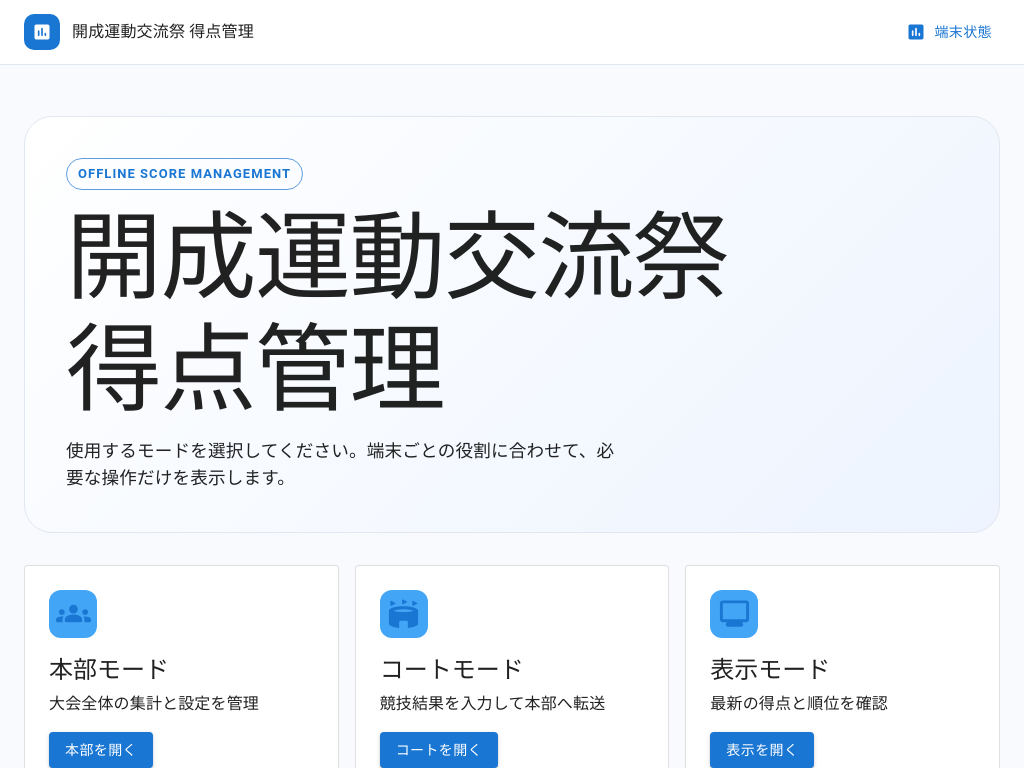
Scenario: App › switches Host mode back to the existing QR receive flow
Click the button with aria-label "本部モード". click: (101, 750)
box: [49,732,153,767]
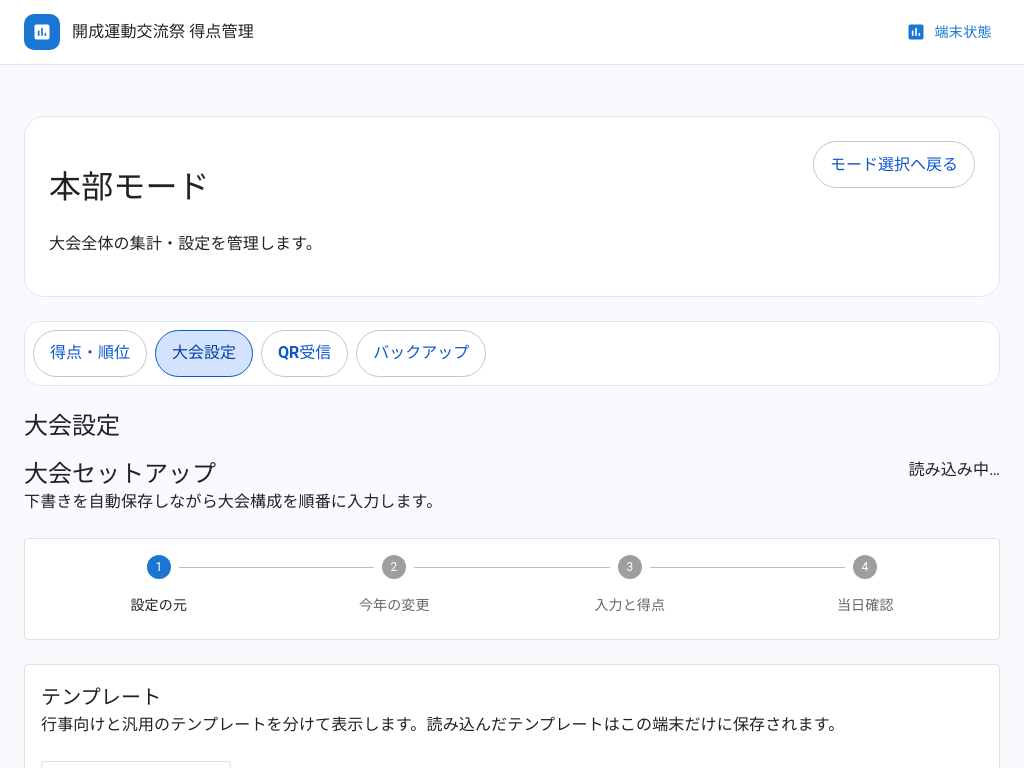
Click the button "QR受信". click: (305, 354)
box: [261,330,348,377]
(page scrolled)
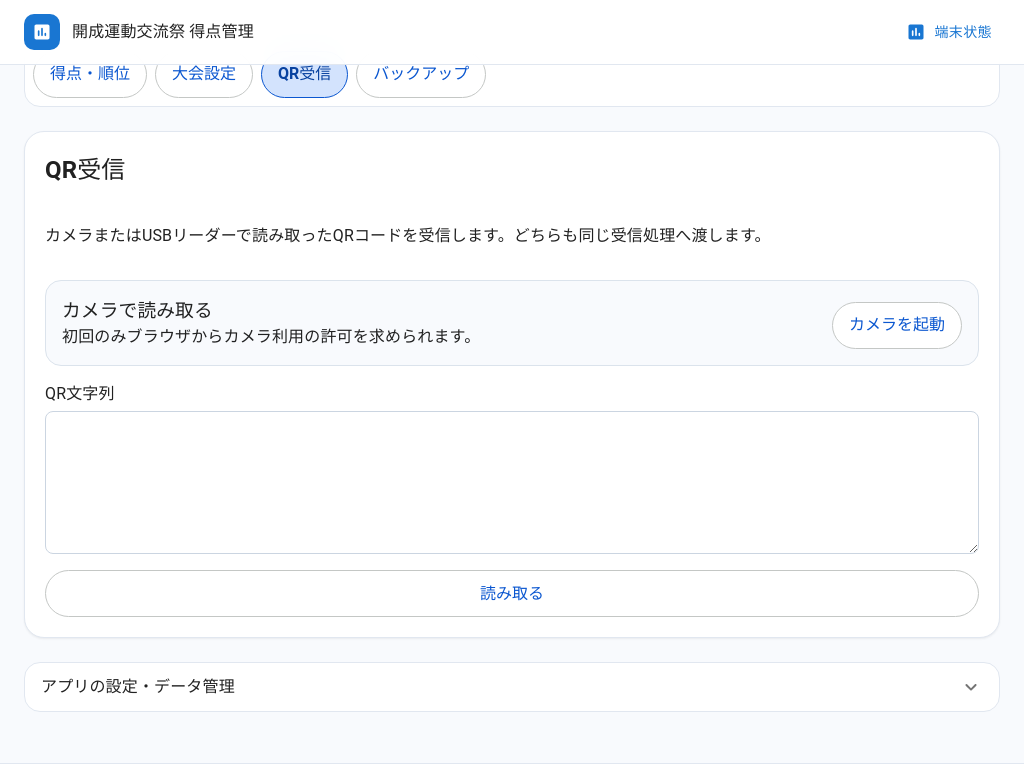
Expected: the heading "QR受信" is shown, [45,156,126,184]
Expected: the element named "本部QR受信" is shown
